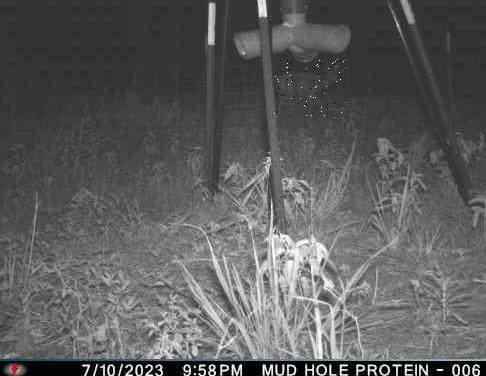Deer: (273, 58, 347, 118)
